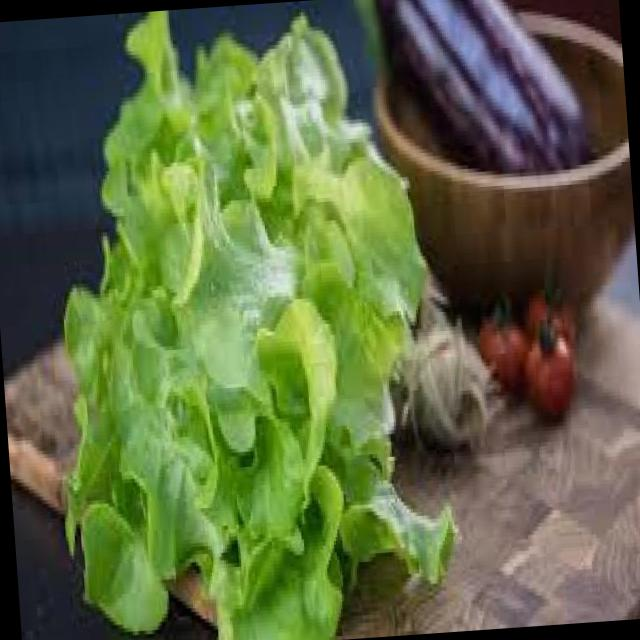Lettuce-Ready-to-Harvest: (66, 10, 451, 640)
